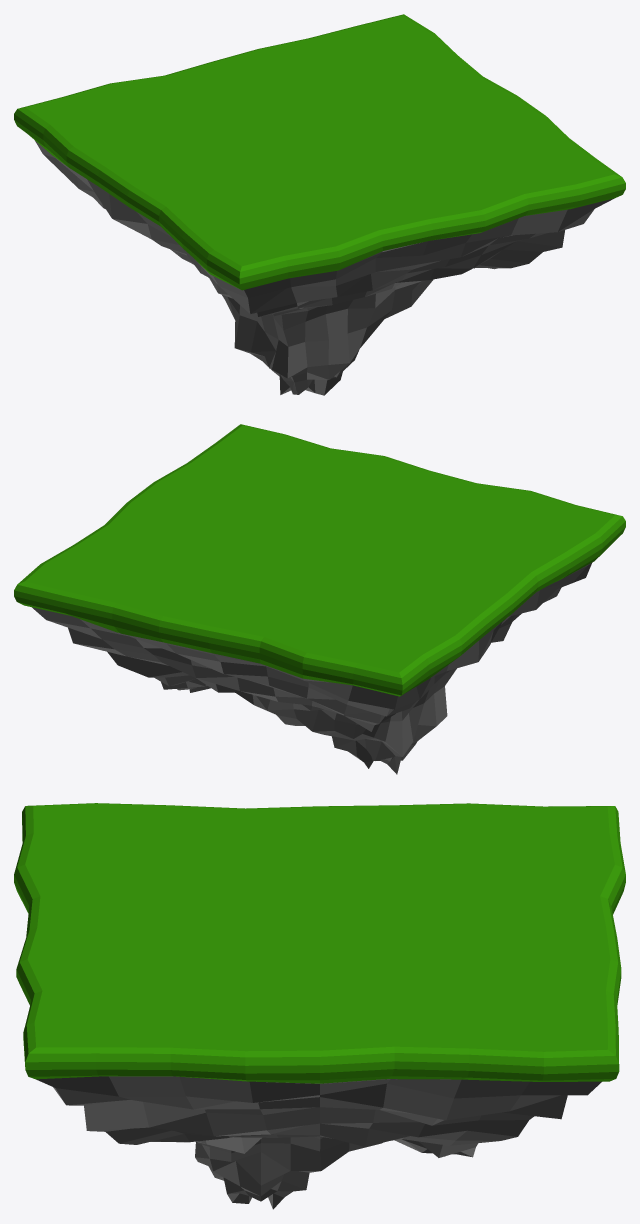
Rendered from tempIsland.fbx.
3 views of the same model, one above another, from view 1: azimuth 30°, elevation 25°; view 2: azimuth 150°, elevation 25°; view 3: azimuth 270°, elevation 25° (orthographic). The views are drawn at different scales.
Visible parts, largest first — view 1: Cube; view 2: Cube; view 3: Cube.
Part boxes in pixels (<box>): Cube: <box>14,14,625,395</box>; Cube: <box>14,424,625,774</box>; Cube: <box>14,803,625,1209</box>.
Bounding box in the file's own units: 595 × 325 × 597.
